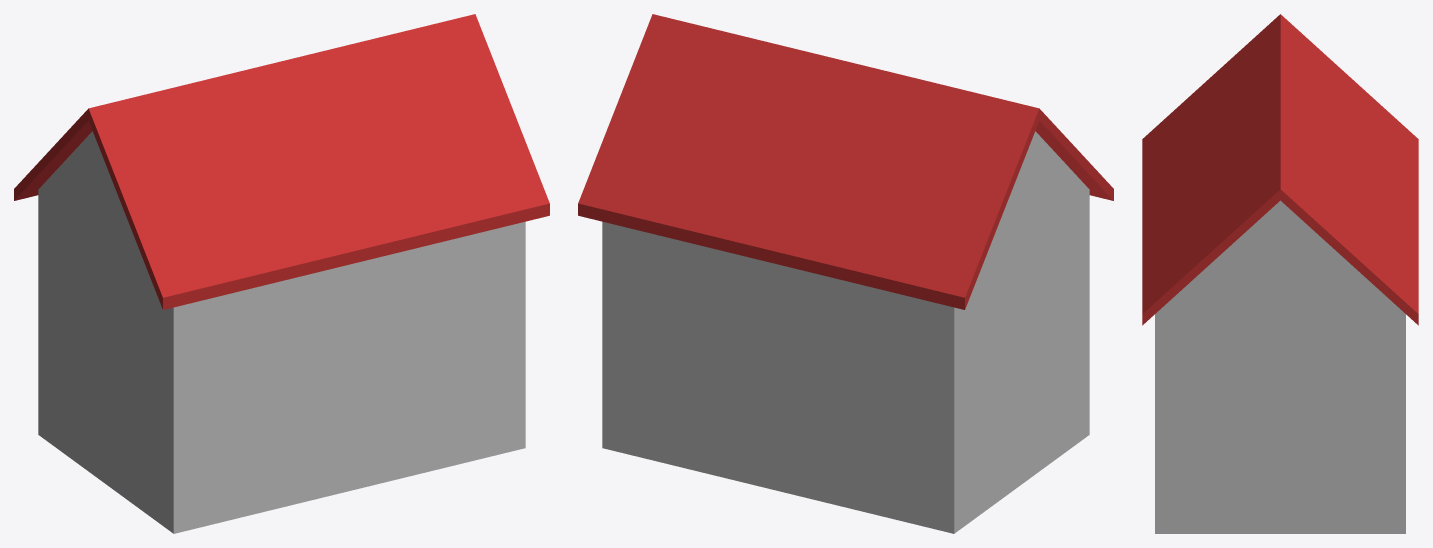
The model's file is BLiving.obj.
3 renders of one model, left to right at view 1: azimuth 30°, elevation 25°; view 2: azimuth 150°, elevation 25°; view 3: azimuth 270°, elevation 25°, orthographic. The views are drawn at different scales.
Visible parts, largest first — view 1: Walls, Roof; view 2: Walls, Roof; view 3: Walls, Roof.
Boxes of the visible parts, x1=… form: Walls: x1=38, y1=131, x2=525, y2=533; Roof: x1=14, y1=14, x2=549, y2=309; Walls: x1=602, y1=131, x2=1089, y2=533; Roof: x1=578, y1=14, x2=1113, y2=309; Walls: x1=1155, y1=200, x2=1405, y2=533; Roof: x1=1142, y1=14, x2=1418, y2=325.
Size of the model in its own units: 3.3 by 3.1 by 2.2.
